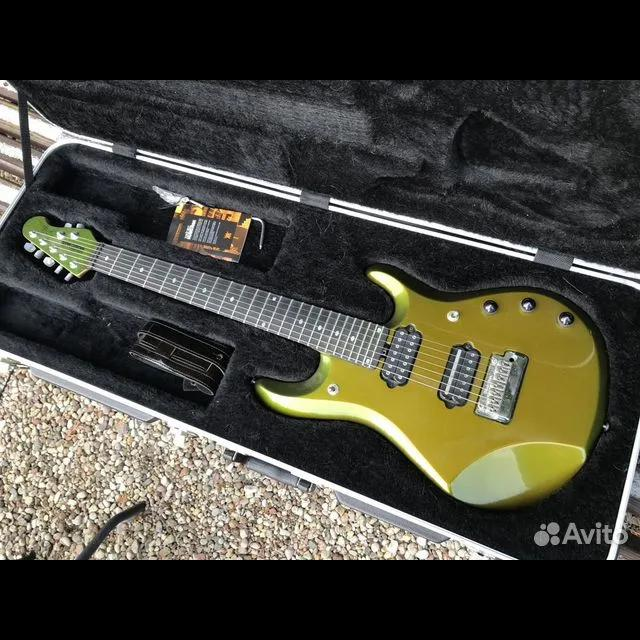Electric-Guitar: (22, 216, 610, 508)
